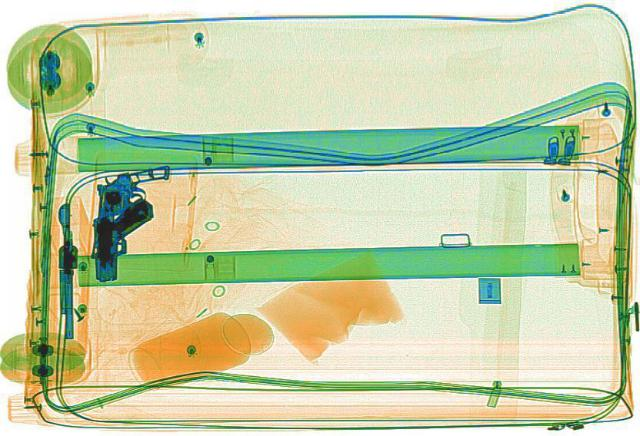Gun: (76, 158, 174, 268), (88, 195, 156, 279), (52, 196, 86, 343)
